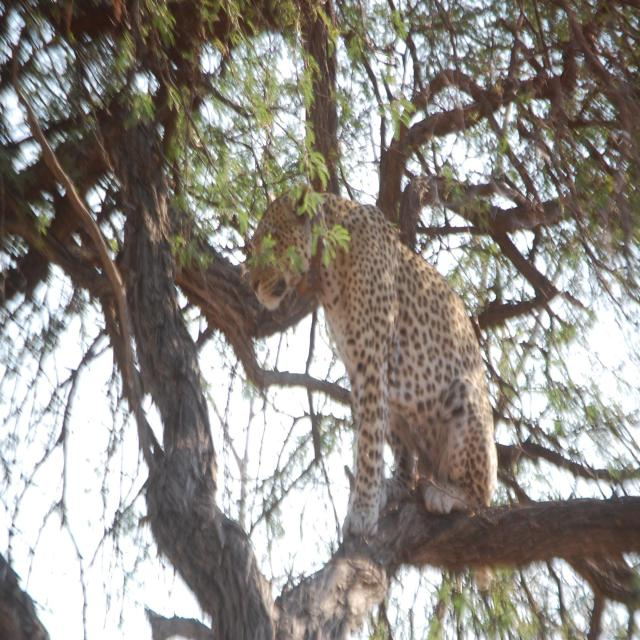Leopard: (238, 181, 508, 550)
